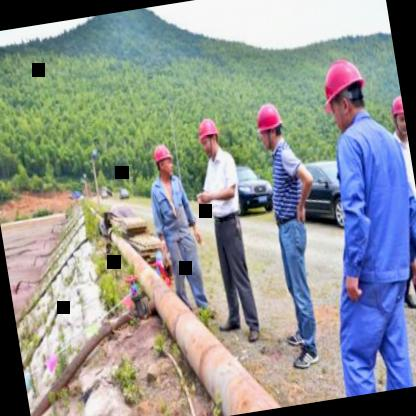helmet: (316, 51, 372, 134), (251, 98, 288, 154), (195, 114, 224, 160), (149, 140, 177, 182), (387, 92, 406, 136)
